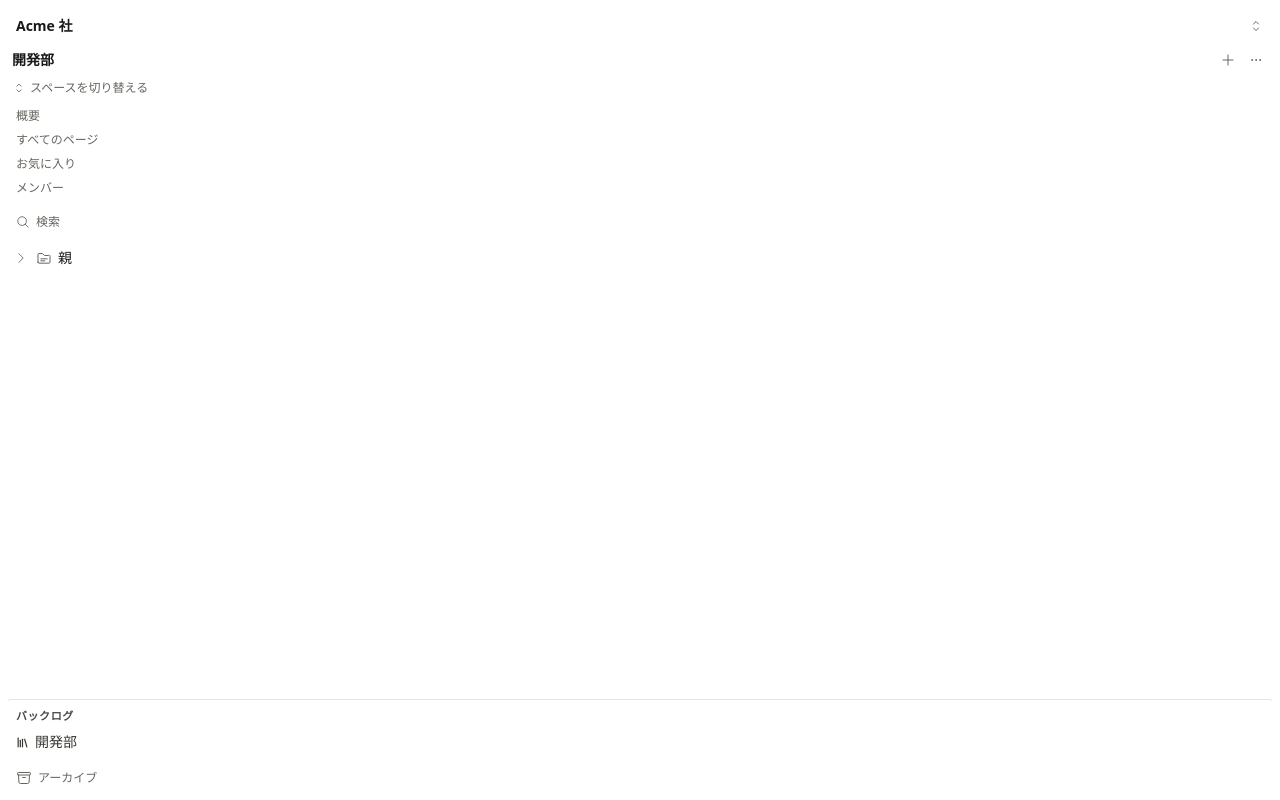
Test: KbSidebar › ドラッグで動かす › 自分の子孫の中へは動かさない（サーバーへも投げない）
Expected: the text "親" is shown, [58, 248, 72, 268]
Click the button named "親 を開く": x=21, y=258 [10, 247, 32, 269]
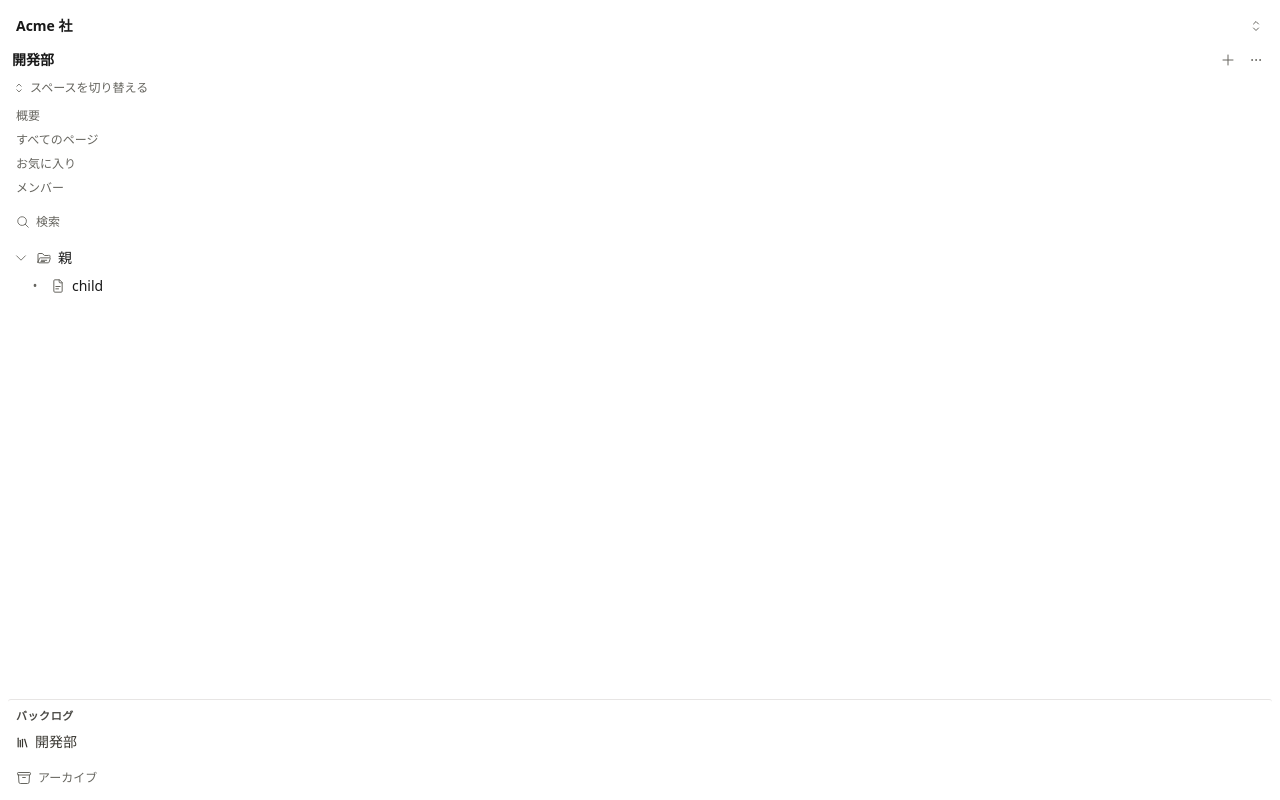
Expected: the text "child" is shown, [72, 276, 103, 296]
